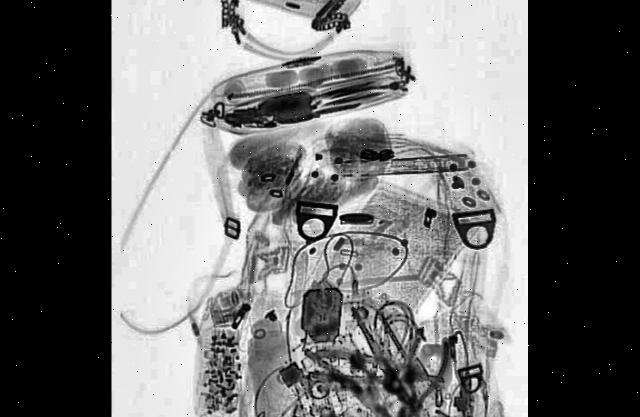Pliers: (305, 282, 433, 417), (392, 323, 453, 417)
